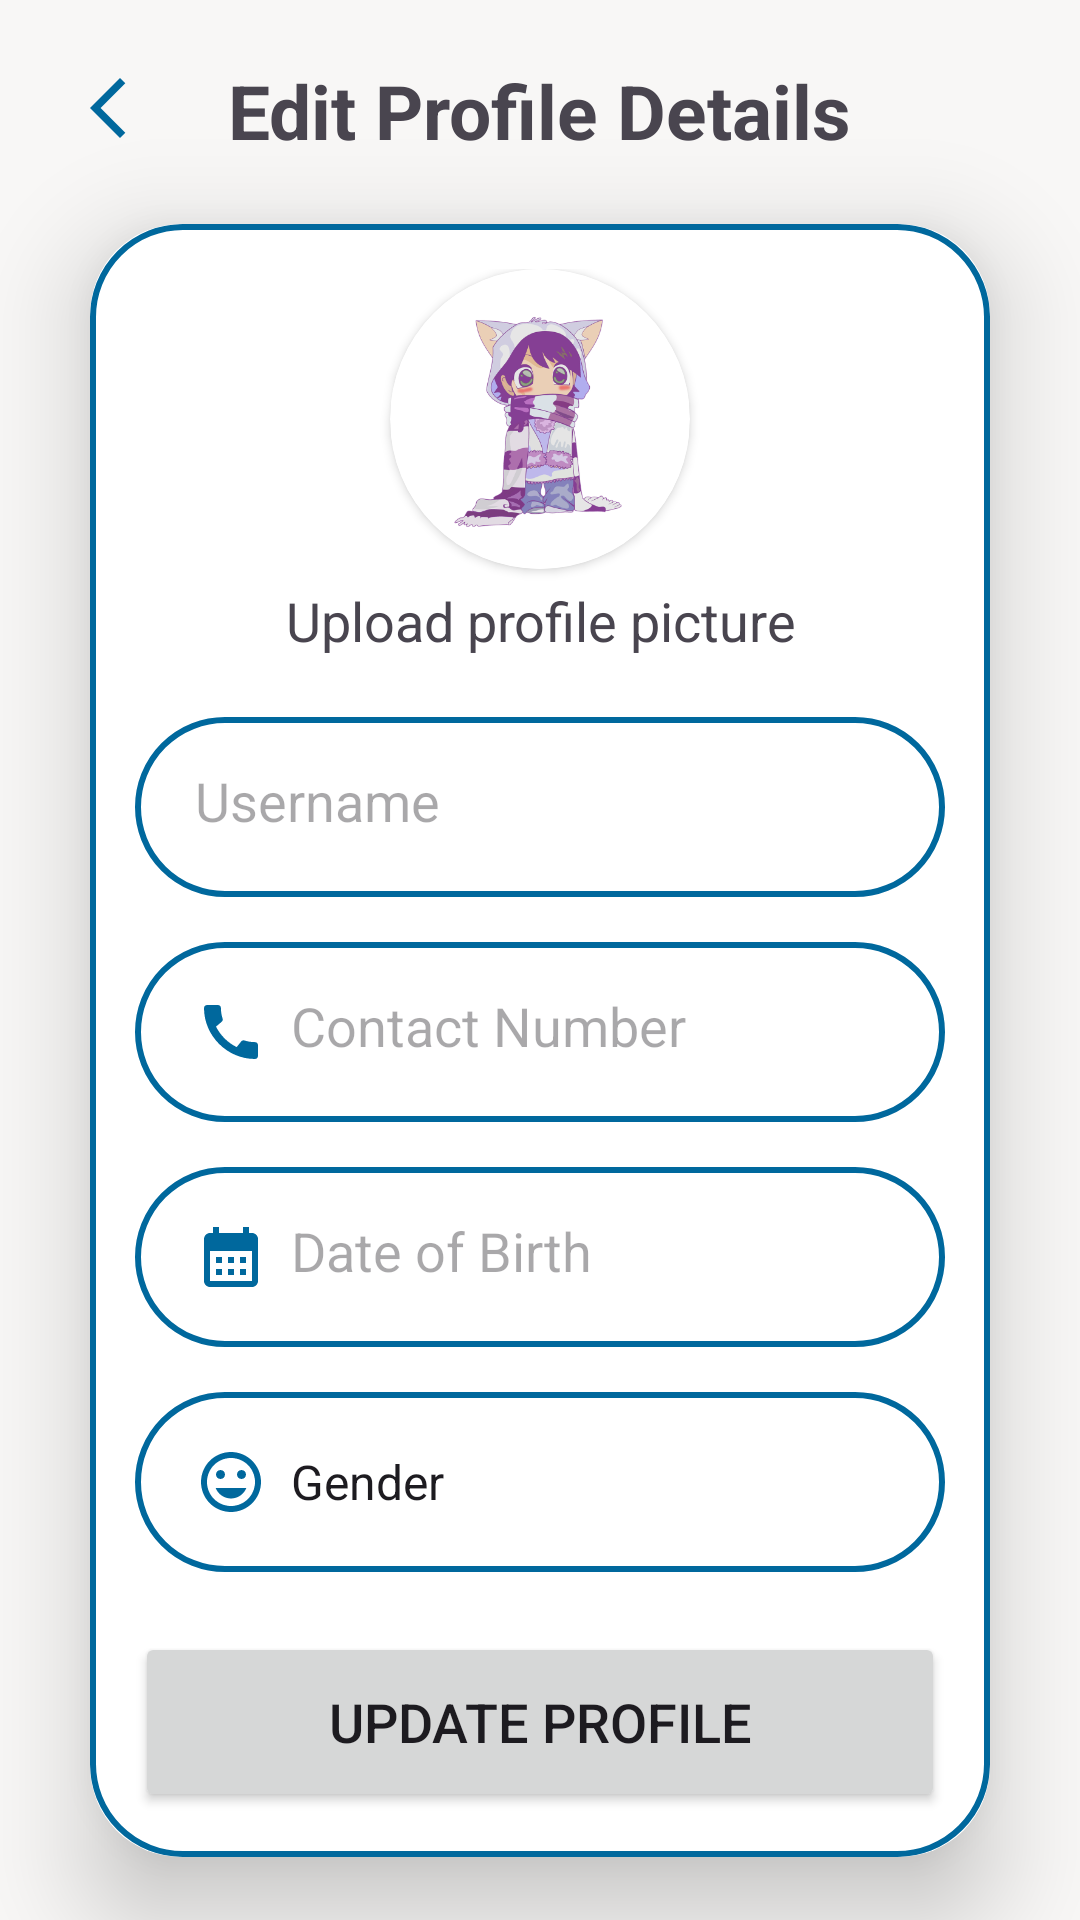

Where to tap for icons on this 1080px×1920px app screen, as (x,y):
back button: (107,108)
tag faces: (231,1482)
